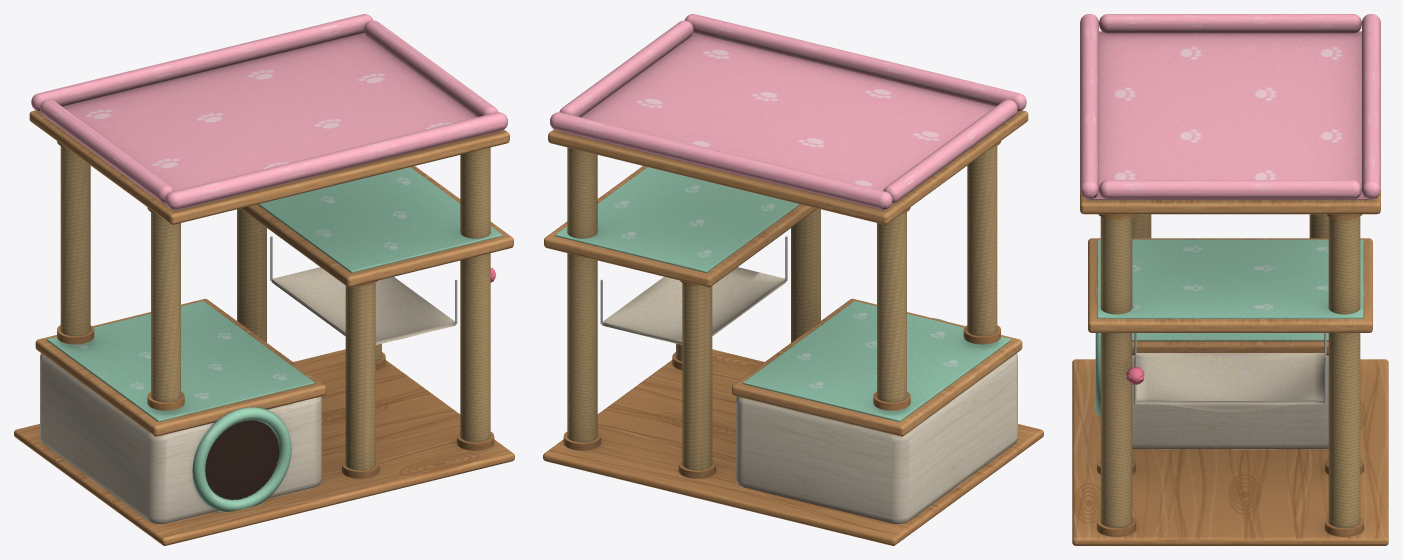
File: tower_house.glb
The picture shows the model from 3 angles, left to right: view 1: azimuth 30°, elevation 25°; view 2: azimuth 150°, elevation 25°; view 3: azimuth 270°, elevation 25°; orthographic projection. The views are drawn at different scales.
Parts seen in each view (by area): view 1: tower_house; view 2: tower_house; view 3: tower_house.
Part boxes in pixels (x1=…): tower_house: x1=14, y1=14, x2=514, y2=545; tower_house: x1=543, y1=14, x2=1043, y2=545; tower_house: x1=1072, y1=14, x2=1388, y2=545.
Size of the model in its own units: 1.38 by 1.26 by 1.
Materials: 1 (1 with a texture image).
